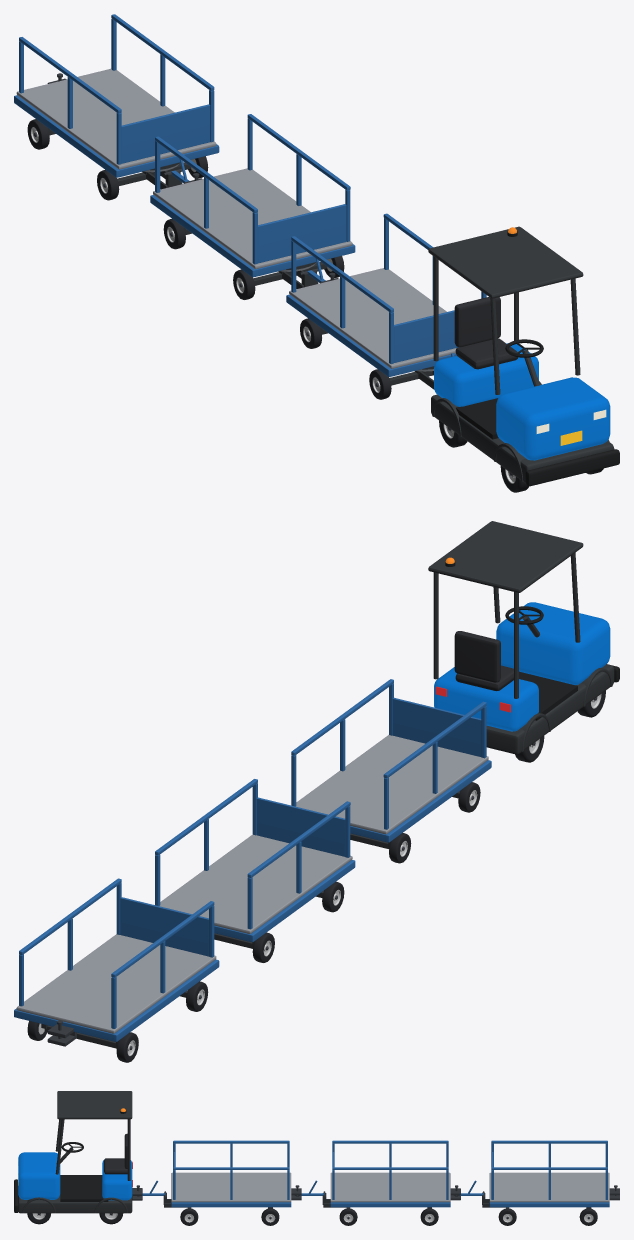
Rendered from tug_cart_train.glb.
3 renders of one model, top to bottom at view 1: azimuth 30°, elevation 25°; view 2: azimuth 150°, elevation 25°; view 3: azimuth 270°, elevation 25°, orthographic. The views are drawn at different scales.
Visible parts, largest first — view 1: tug_geo, cart2_body_geo, cart3_body_geo, cart1_body_geo; view 2: tug_geo, cart3_body_geo, cart1_body_geo, cart2_body_geo; view 3: tug_geo, cart3_body_geo, cart1_body_geo, cart2_body_geo, cart1_wheel_FL_geo, cart2_wheel_RL_geo, cart1_wheel_RL_geo, cart3_wheel_RL_geo, cart2_wheel_FL_geo, cart3_wheel_FL_geo, tug_wheel_FL_geo, tug_wheel_RL_geo.
Boxes of the visible parts, x1=… form: tug_geo: x1=428, y1=226, x2=619, y2=486; cart2_body_geo: x1=150, y1=114, x2=355, y2=277; cart3_body_geo: x1=14, y1=14, x2=219, y2=177; cart1_body_geo: x1=286, y1=213, x2=486, y2=376; tug_geo: x1=428, y1=521, x2=619, y2=754; cart3_body_geo: x1=14, y1=878, x2=219, y2=1048; cart1_body_geo: x1=291, y1=679, x2=491, y2=848; cart2_body_geo: x1=155, y1=779, x2=355, y2=948; tug_geo: x1=14, y1=1091, x2=142, y2=1213; cart3_body_geo: x1=489, y1=1140, x2=619, y2=1208; cart1_body_geo: x1=171, y1=1140, x2=301, y2=1208; cart2_body_geo: x1=330, y1=1140, x2=460, y2=1208; cart1_wheel_FL_geo: x1=180, y1=1208, x2=198, y2=1225; cart2_wheel_RL_geo: x1=420, y1=1208, x2=438, y2=1225; cart1_wheel_RL_geo: x1=261, y1=1208, x2=279, y2=1225; cart3_wheel_RL_geo: x1=579, y1=1208, x2=597, y2=1225; cart2_wheel_FL_geo: x1=339, y1=1208, x2=357, y2=1225; cart3_wheel_FL_geo: x1=498, y1=1208, x2=516, y2=1225; tug_wheel_FL_geo: x1=27, y1=1213, x2=50, y2=1224; tug_wheel_RL_geo: x1=99, y1=1213, x2=123, y2=1224.
Size of the model in its own units: 1.16 by 2.08 by 10.09.
Materials: 2 (2 with a texture image).
